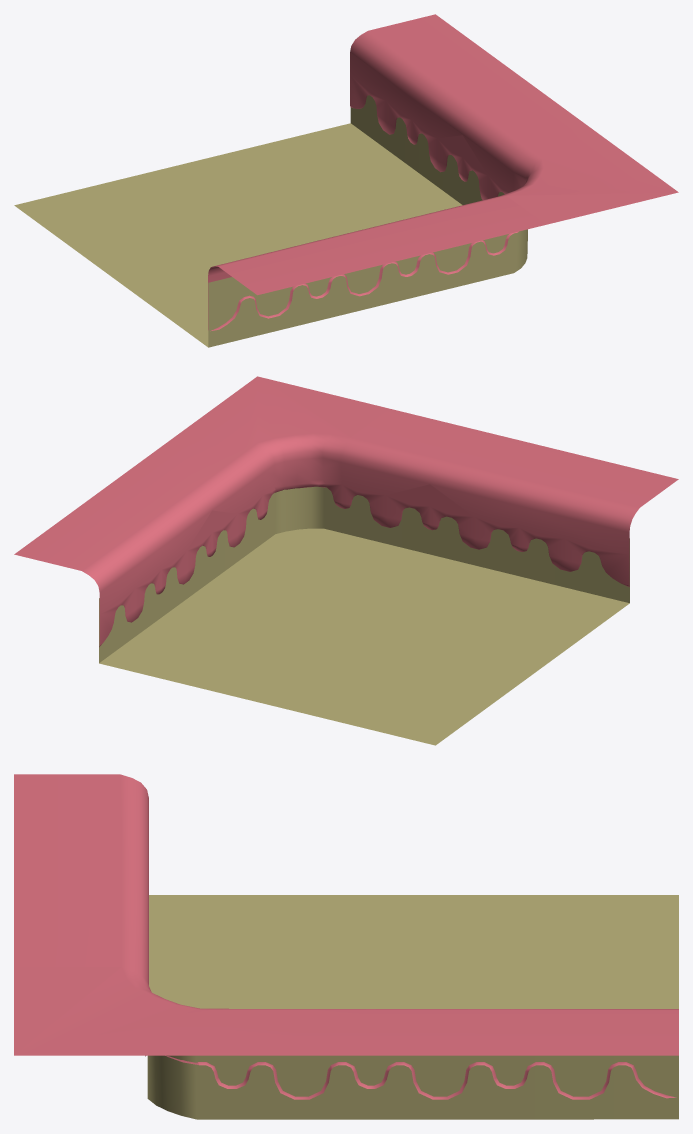
The model's file is SM_Tile_L.fbx.
3 renders of one model, top to bottom at view 1: azimuth 30°, elevation 25°; view 2: azimuth 150°, elevation 25°; view 3: azimuth 270°, elevation 25°, orthographic. The views are drawn at different scales.
Parts seen in each view (by area): view 1: SM_Tile_L; view 2: SM_Tile_L; view 3: SM_Tile_L.
Part boxes in pixels (x1,y1,x2,y2): SM_Tile_L: (14, 14, 678, 347); SM_Tile_L: (14, 376, 678, 745); SM_Tile_L: (14, 774, 678, 1119).
Size of the model in its own units: 100 by 20 by 100.
